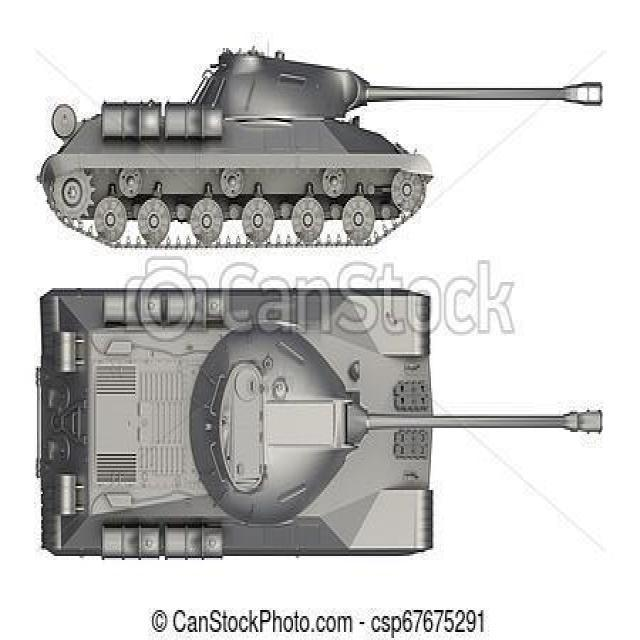MIL_MBT: (21, 279, 613, 571), (27, 18, 610, 264)
